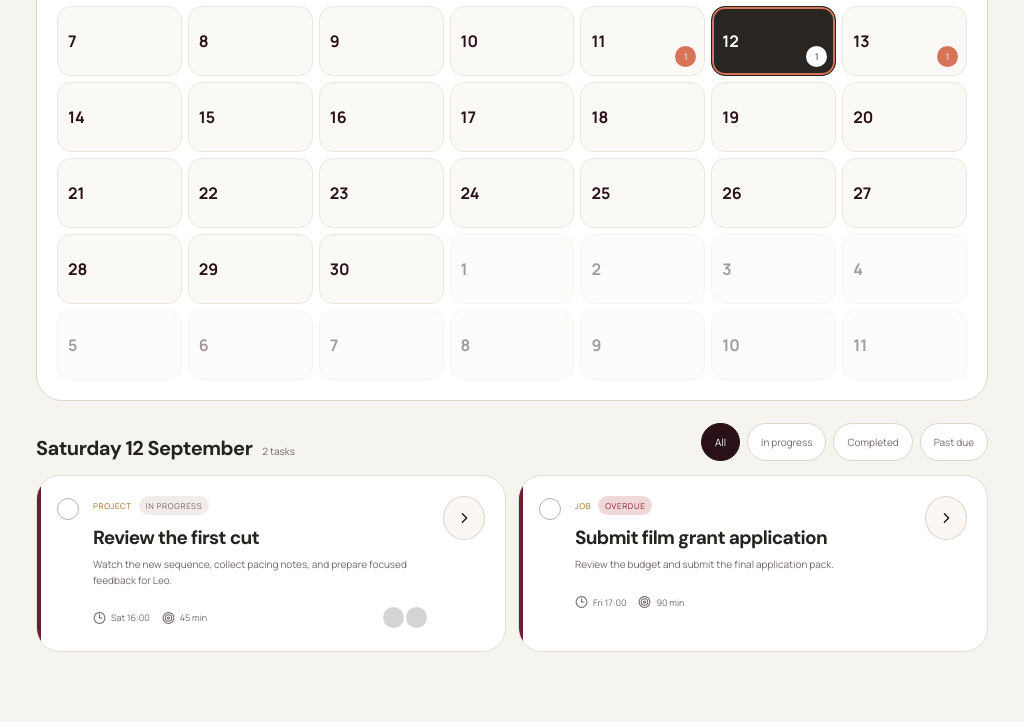
Test case: Tasks experience › filters and completes tasks while preserving Dashboard separation
(page scrolled)
Click the button "In progress": (787, 442) top-left (747, 423), bottom-right (826, 461)
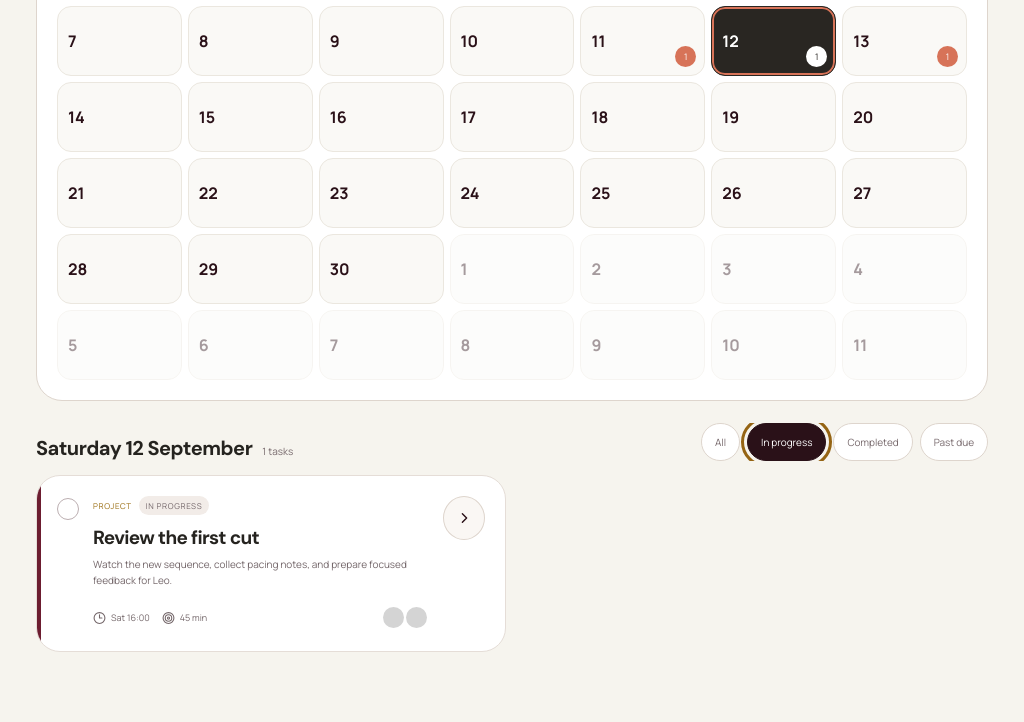
expect the heading "Review the first cut" is shown: met, box top-left (93, 525), bottom-right (259, 550)
Click the checkbox named "Complete Review the first cut": (68, 508) top-left (57, 496), bottom-right (79, 520)
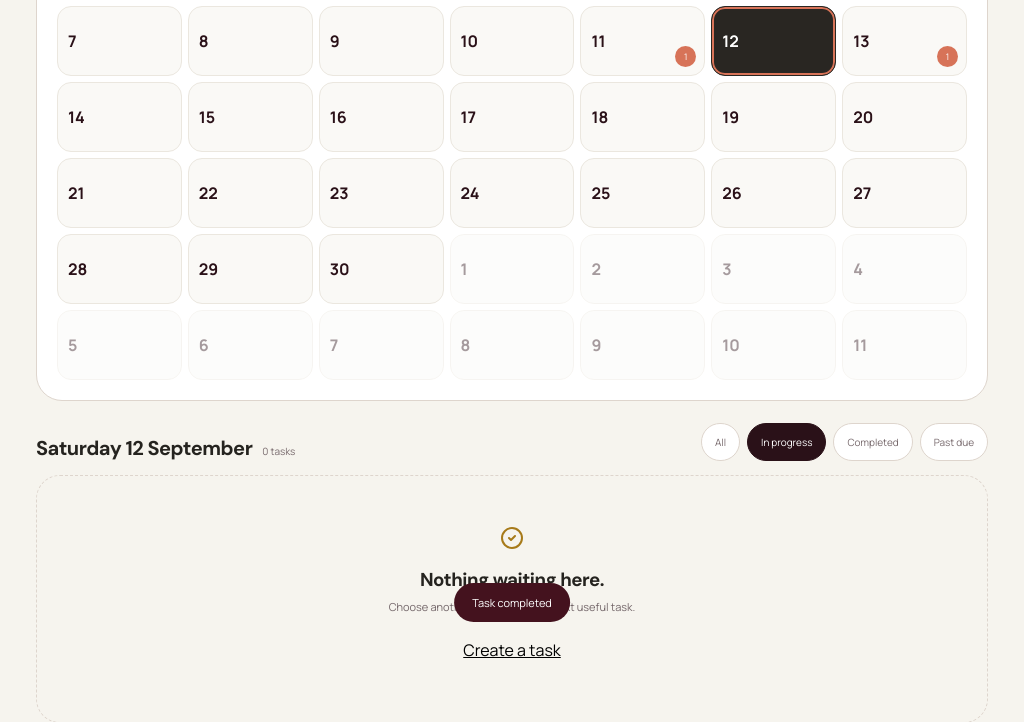
expect the message reads "Task completed": met, box top-left (472, 595), bottom-right (552, 610)
